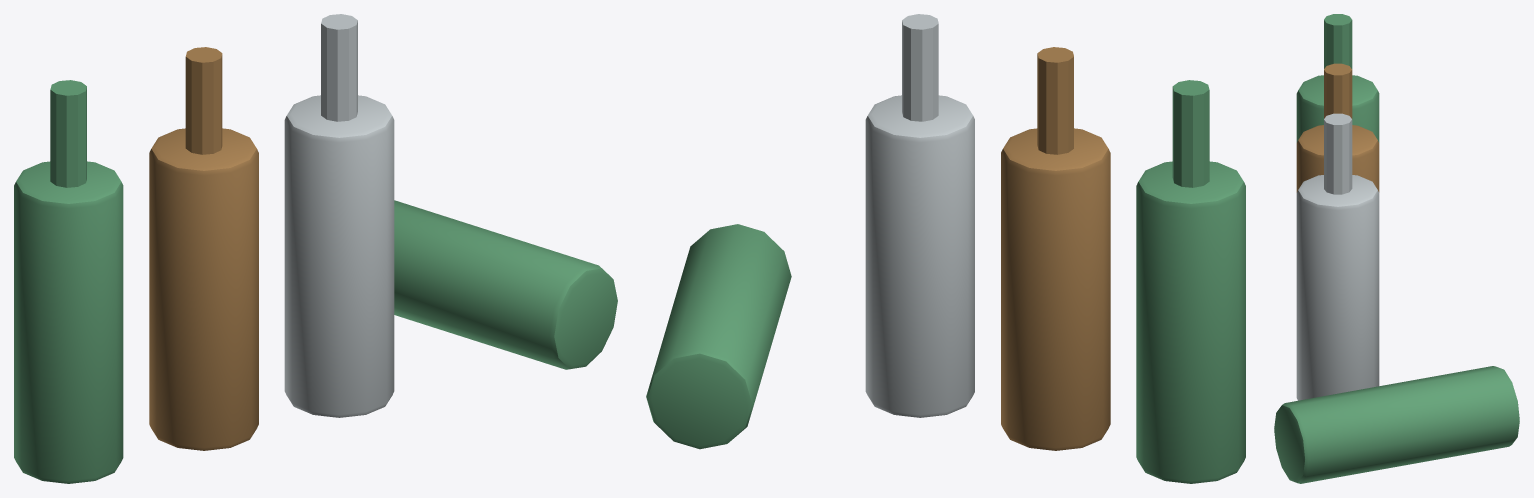
Rendered from sd_garrafas_vazias.glb.
3 renders of one model, left to right at view 1: azimuth 30°, elevation 25°; view 2: azimuth 150°, elevation 25°; view 3: azimuth 270°, elevation 25°, orthographic. The views are drawn at different scales.
Parts seen in each view (by area): view 1: Cylinder; view 2: Cylinder; view 3: Cylinder.
Part boxes in pixels (<box>): Cylinder: <box>14,14,617,483</box>; Cylinder: <box>646,14,1245,483</box>; Cylinder: <box>1274,14,1519,483</box>.
Size of the model in its own units: 0.4246 by 0.265 by 0.2084.
